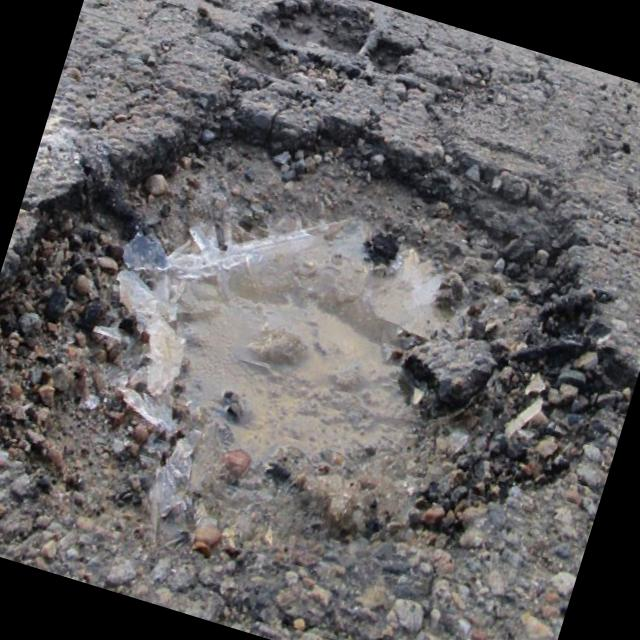Potholes: (0, 12, 640, 640), (208, 0, 449, 141)
